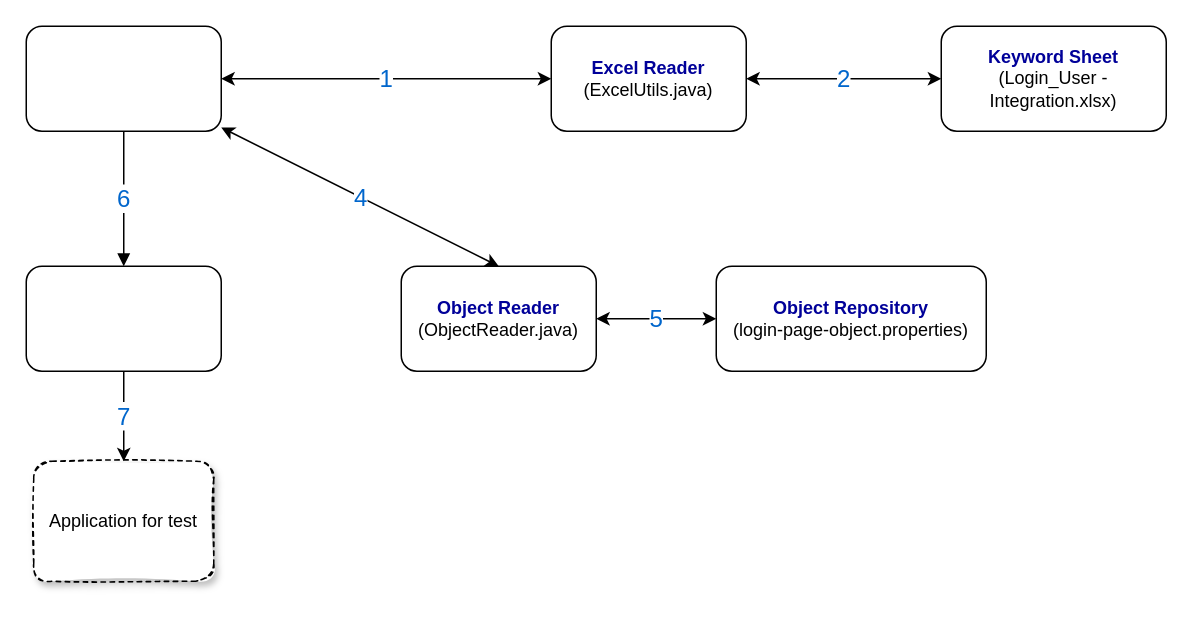
The diagram is 1193 pixels wide and 618 high, and some of its shapes have lost their labels. Here are the shapes that lost their labels. From the top down, the centre of each, then its label:
At pixel 123 78: "Testcase Executor (TestcaseExecutor.java)".
At pixel 123 318: "Operation (UIOperation.java)".
